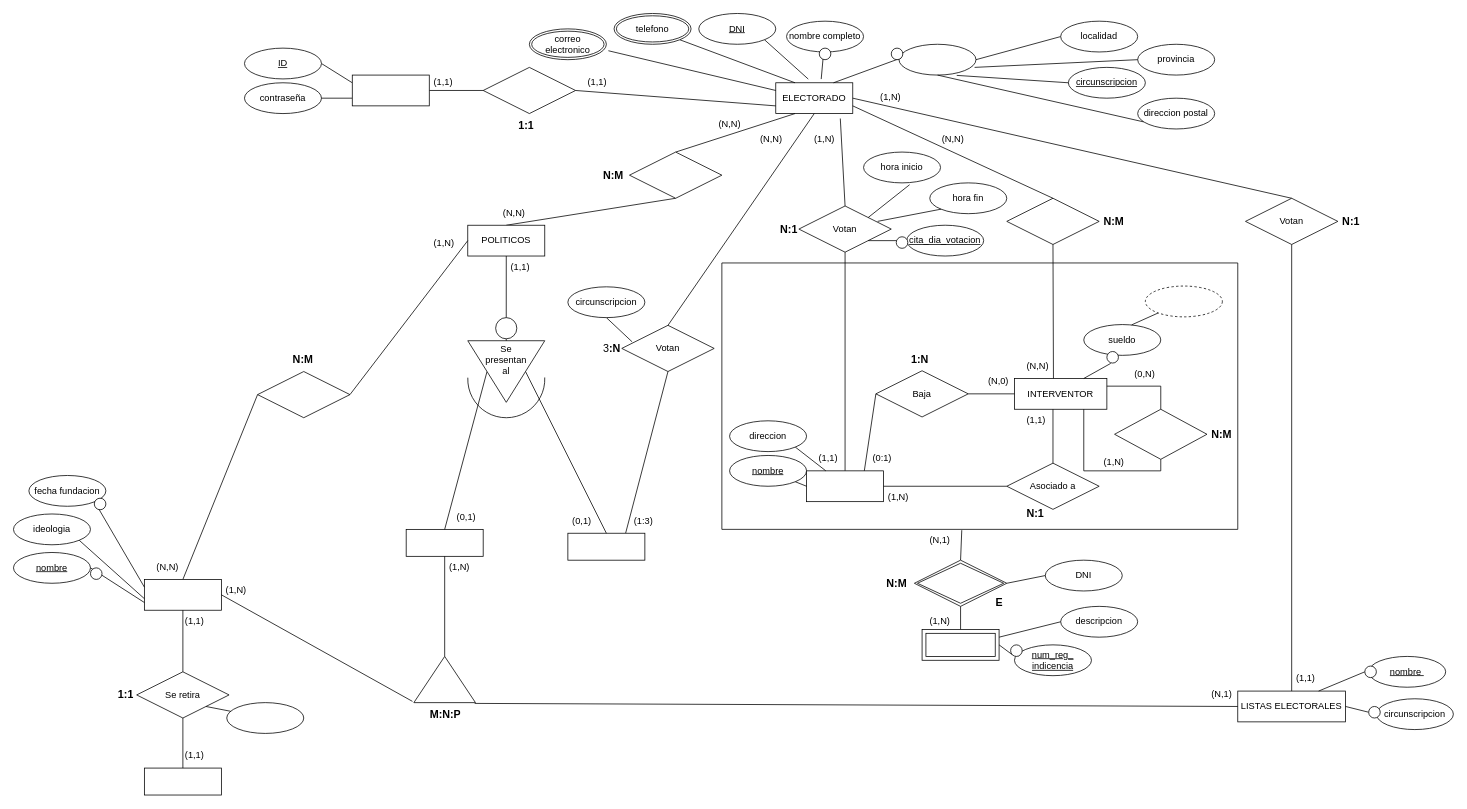
Some shapes in this 1467 by 809 pixel diagram are drawn without their labels. The box of each missing label's shape, as (x1, y1, x2, y2) in pixels:
candidatura: (226, 702, 304, 733)
CENTROS DE VOTACION: (806, 470, 884, 502)
CONGRESO: (405, 529, 483, 556)
direccion completa: (898, 44, 976, 75)
ELECCIONES: (144, 767, 221, 795)
Estan: (629, 151, 722, 198)
Forman: (413, 656, 475, 703)
Identidad digital: (352, 74, 429, 106)
INCIDENCIA: (921, 629, 999, 660)
Nombran: (1006, 198, 1099, 244)
PARTIDO POLITICO: (144, 579, 221, 610)
Pertenecen: (257, 371, 350, 418)
Registra: (914, 559, 1007, 606)
SENADO: (567, 532, 645, 560)
sueldos: (1145, 285, 1222, 317)
Supervisa: (1114, 408, 1207, 459)
Tiene: (482, 67, 576, 114)
